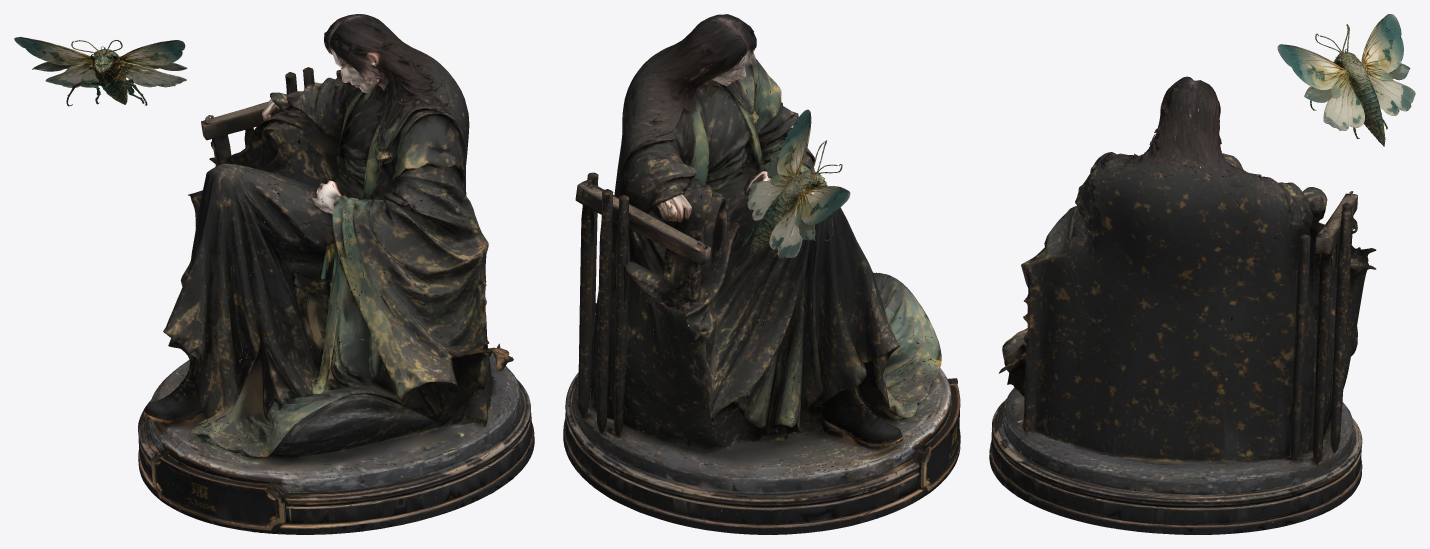
File: Fang_Yuan_Web1.glb
3 renders of one model, left to right at view 1: azimuth 30°, elevation 25°; view 2: azimuth 150°, elevation 25°; view 3: azimuth 270°, elevation 25°, orthographic. The views are drawn at different scales.
Visible parts, largest first — view 1: node_0, node_0.001; view 2: node_0, node_0.001; view 3: node_0, node_0.001.
Part boxes in pixels (left/top/right/bottom): node_0: left=138, top=14, right=534, bottom=534; node_0.001: left=14, top=37, right=187, bottom=106; node_0: left=563, top=14, right=960, bottom=534; node_0.001: left=742, top=109, right=850, bottom=258; node_0: left=989, top=76, right=1376, bottom=534; node_0.001: left=1277, top=14, right=1415, bottom=146.
Size of the model in its own units: 0.8525 by 0.9424 by 0.8926.
2 materials, 2 textured.
